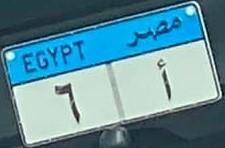6: (49, 79, 88, 124)
alif: (152, 58, 177, 101)
